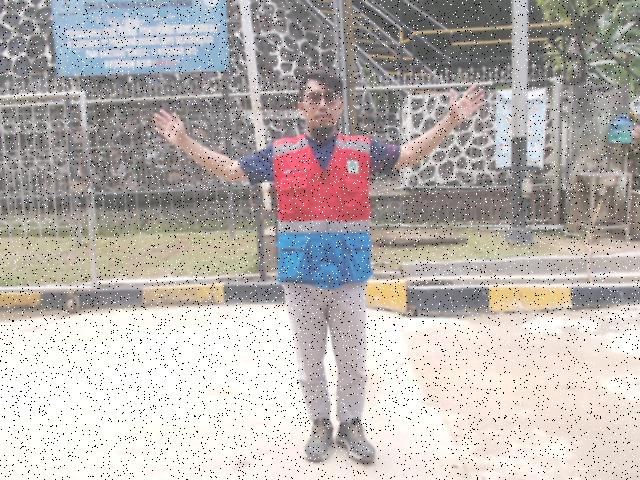safety-shoes: (335, 414, 381, 467), (297, 415, 337, 461)
